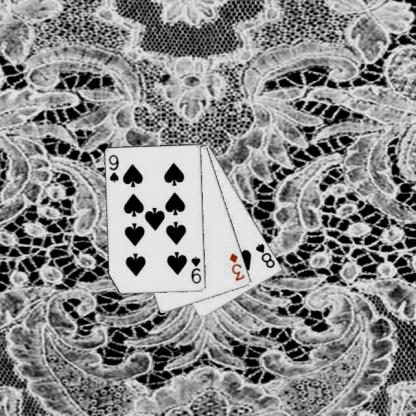3D: (227, 250, 246, 283)
8S: (252, 240, 276, 270)
9S: (188, 254, 203, 285), (106, 152, 120, 184)
